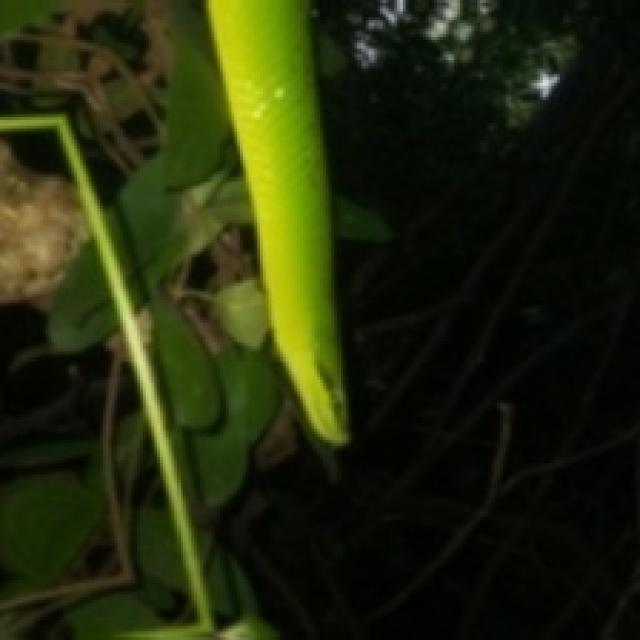red-tailed green ratsnake: (209, 0, 346, 443)
